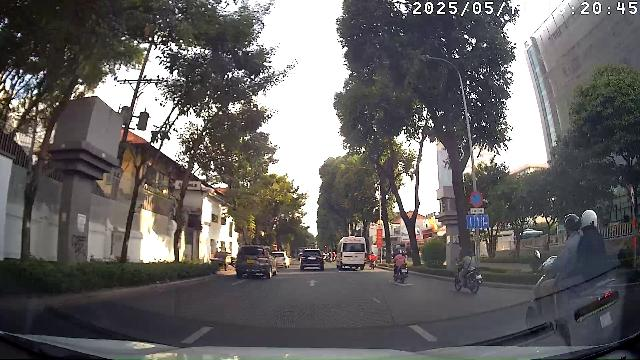131a-cam-do-xe: (469, 191, 483, 207)
